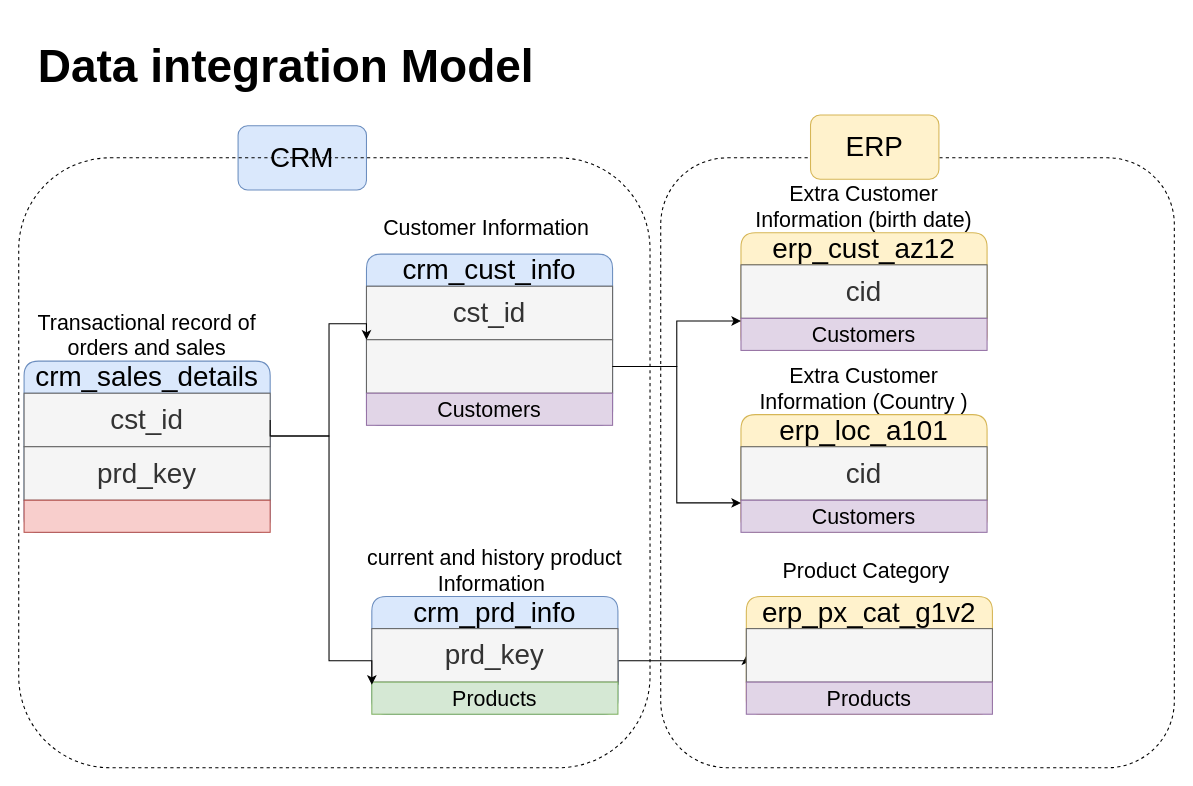
Some shapes in this 1193 by 786 pixel diagram are drawn without their labels. Here are the shapes that lost their labels. From the top down, the centre of each, then its label:
At point (489, 366): "cst_key".
At point (146, 515): "Sales".
At point (868, 655): "id".
